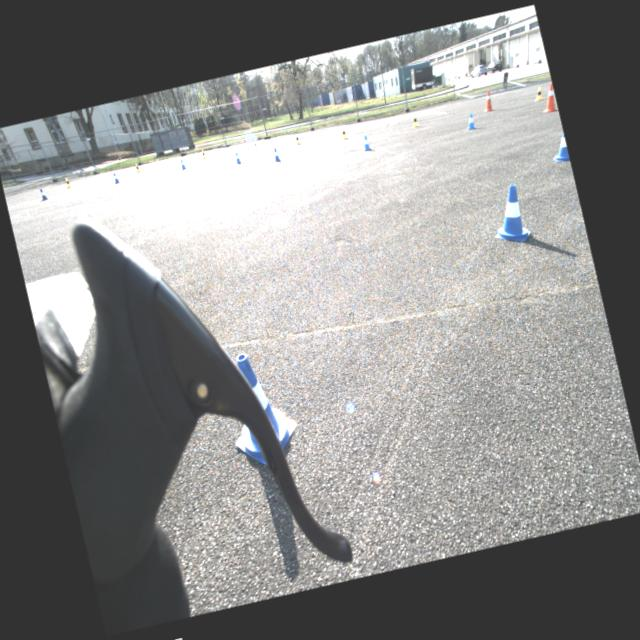blue_cone: (215, 346, 304, 470), (484, 182, 532, 246), (548, 132, 570, 164), (462, 111, 477, 131), (360, 133, 375, 153), (38, 187, 48, 200), (272, 146, 280, 162), (112, 170, 120, 183), (234, 152, 242, 164), (179, 158, 186, 170)
large_orange_cone: (537, 83, 558, 113), (480, 90, 494, 112)
yellow_cone: (531, 86, 543, 101), (409, 113, 419, 127), (339, 128, 348, 140), (294, 134, 302, 146), (64, 176, 72, 188), (200, 148, 206, 160), (252, 138, 258, 150), (134, 162, 141, 172)
